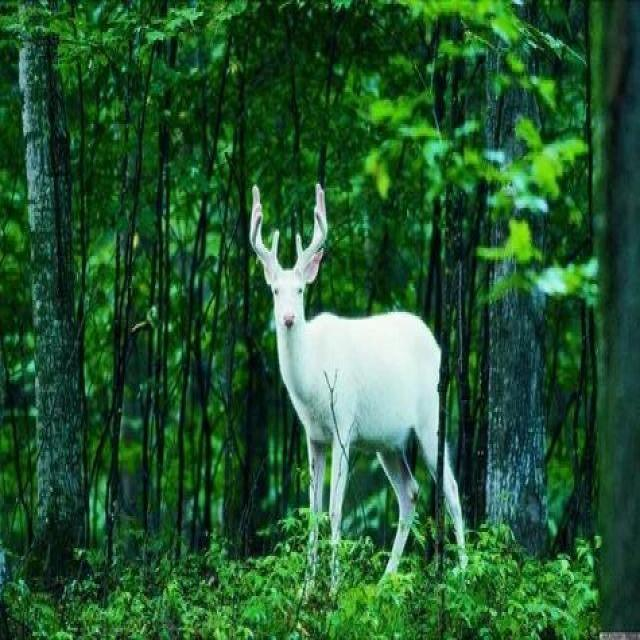deer: (232, 191, 489, 565)
